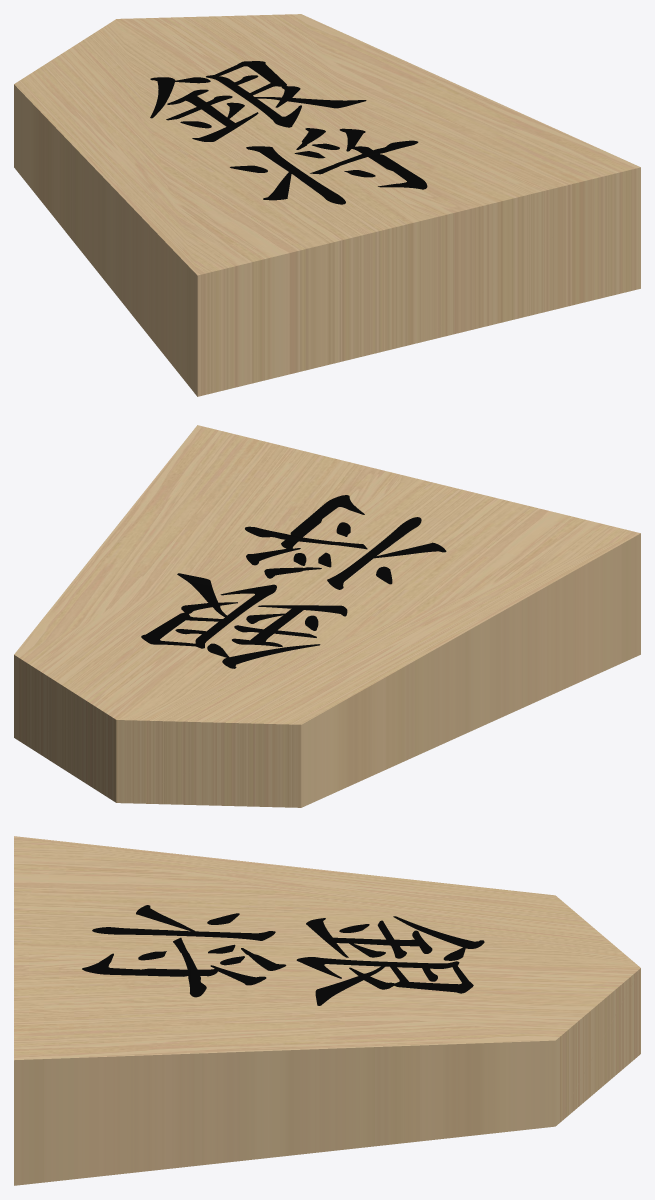
Rendered from gin.fbx.
The picture shows the model from 3 angles, top to bottom: view 1: azimuth 30°, elevation 25°; view 2: azimuth 150°, elevation 25°; view 3: azimuth 270°, elevation 25°; orthographic projection. The views are drawn at different scales.
Parts seen in each view (by area): view 1: gin.001; view 2: gin.001; view 3: gin.001.
Boxes of the visible parts, x1,y1,x2,y2 form: gin.001: (14,14,640,396); gin.001: (14,425,640,807); gin.001: (14,836,640,1185).
Bounding box in the file's own units: 421 × 110 × 498.
